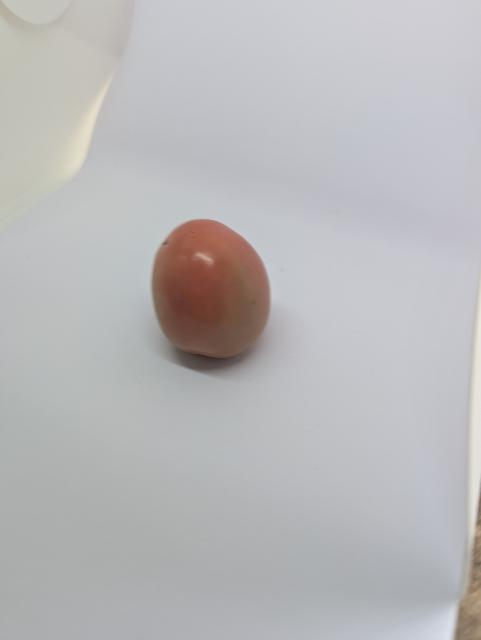turning: (151, 214, 282, 365)
